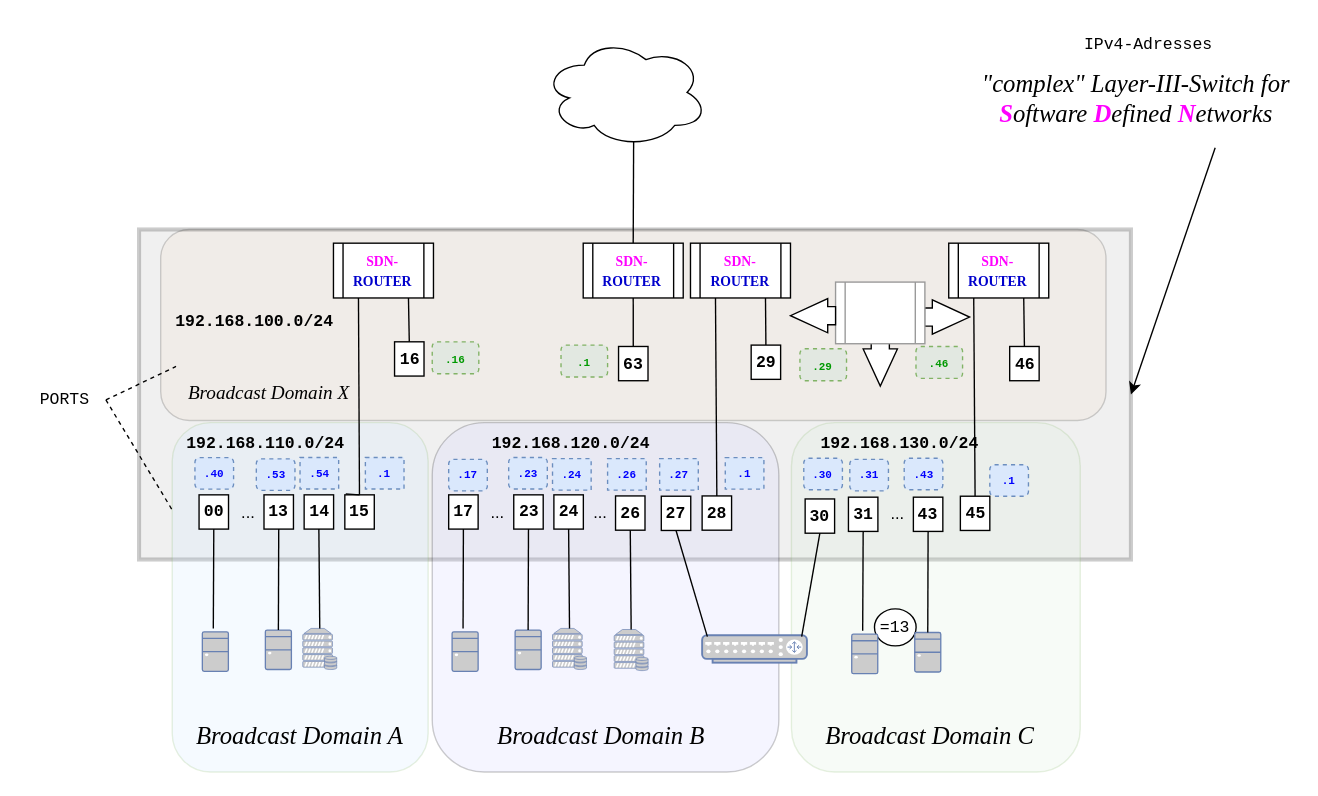
This 1318x796 diagram has some shape labels left out. Each missing label, with the centre of its shape:
"Internet" goes at [625,91].
"SDN- DHCP, DNS, NTP" goes at [879,312].
